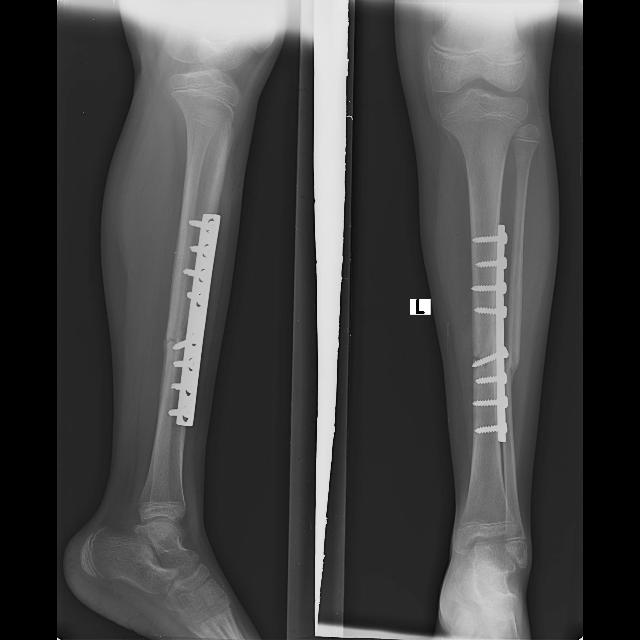Fracture: (469, 344, 496, 374), (162, 329, 186, 352)
